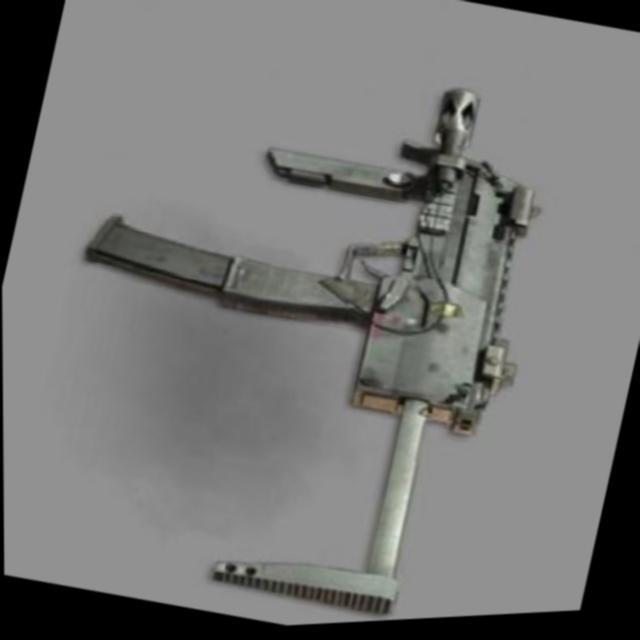weapon: (13, 8, 578, 640)
